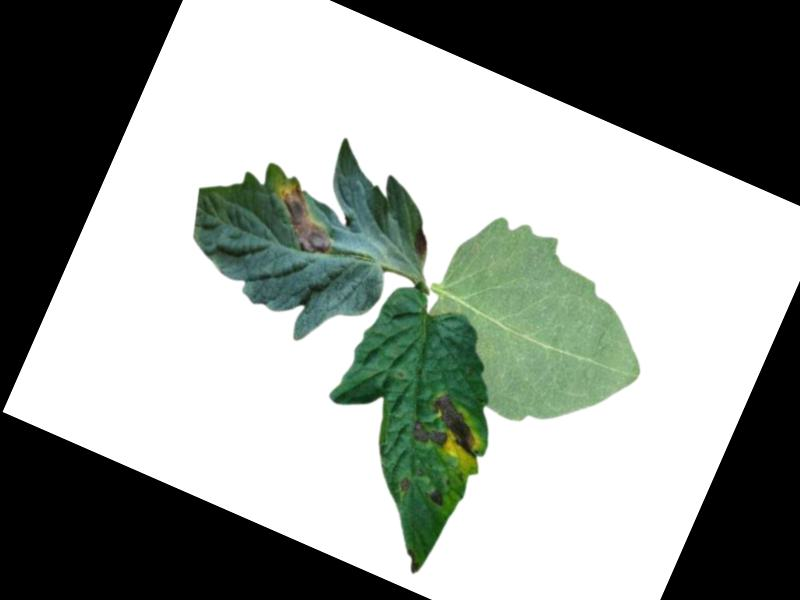Early_blight: (258, 173, 352, 262), (407, 383, 495, 466), (400, 546, 427, 576), (427, 484, 452, 510), (397, 474, 415, 490)
